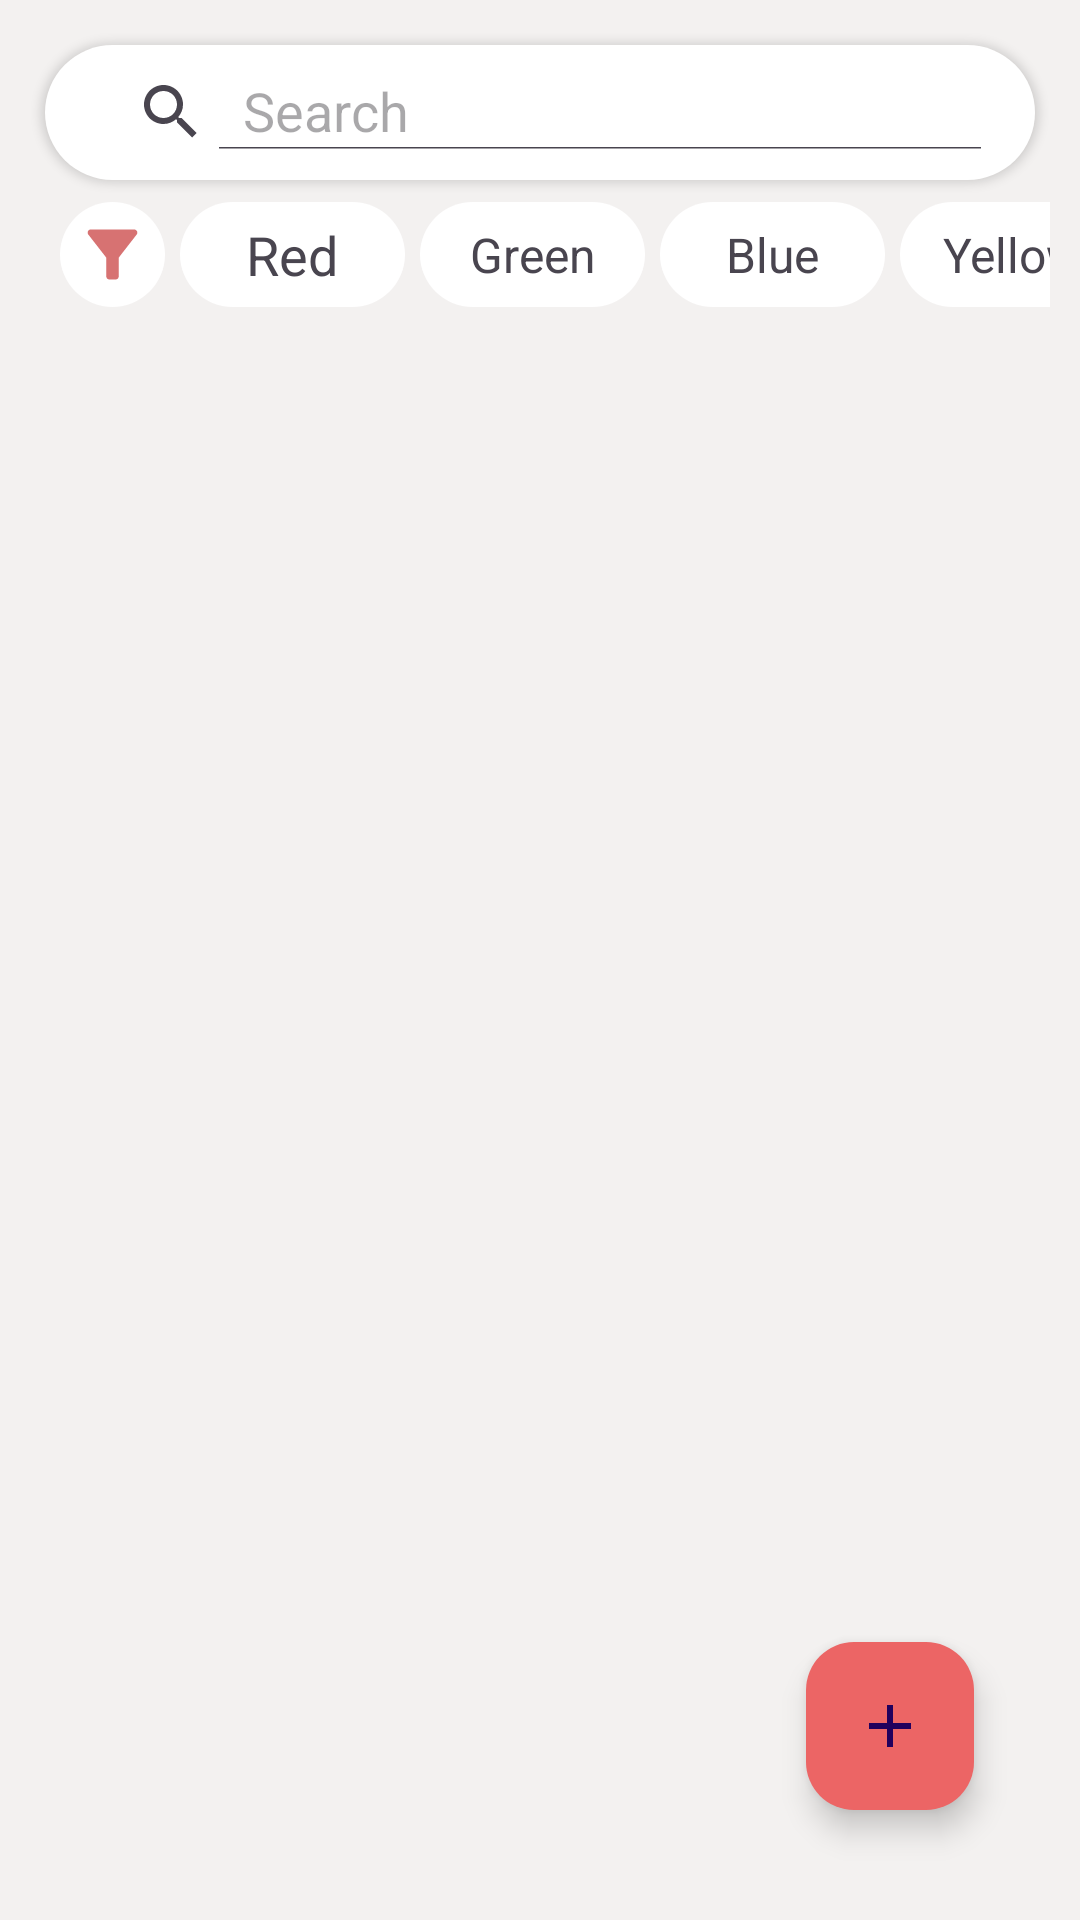

Icon click points for this 1080*1920 phone screenshot, format point (x, y):
add: point (890, 1726)
filter: point (112, 254)
